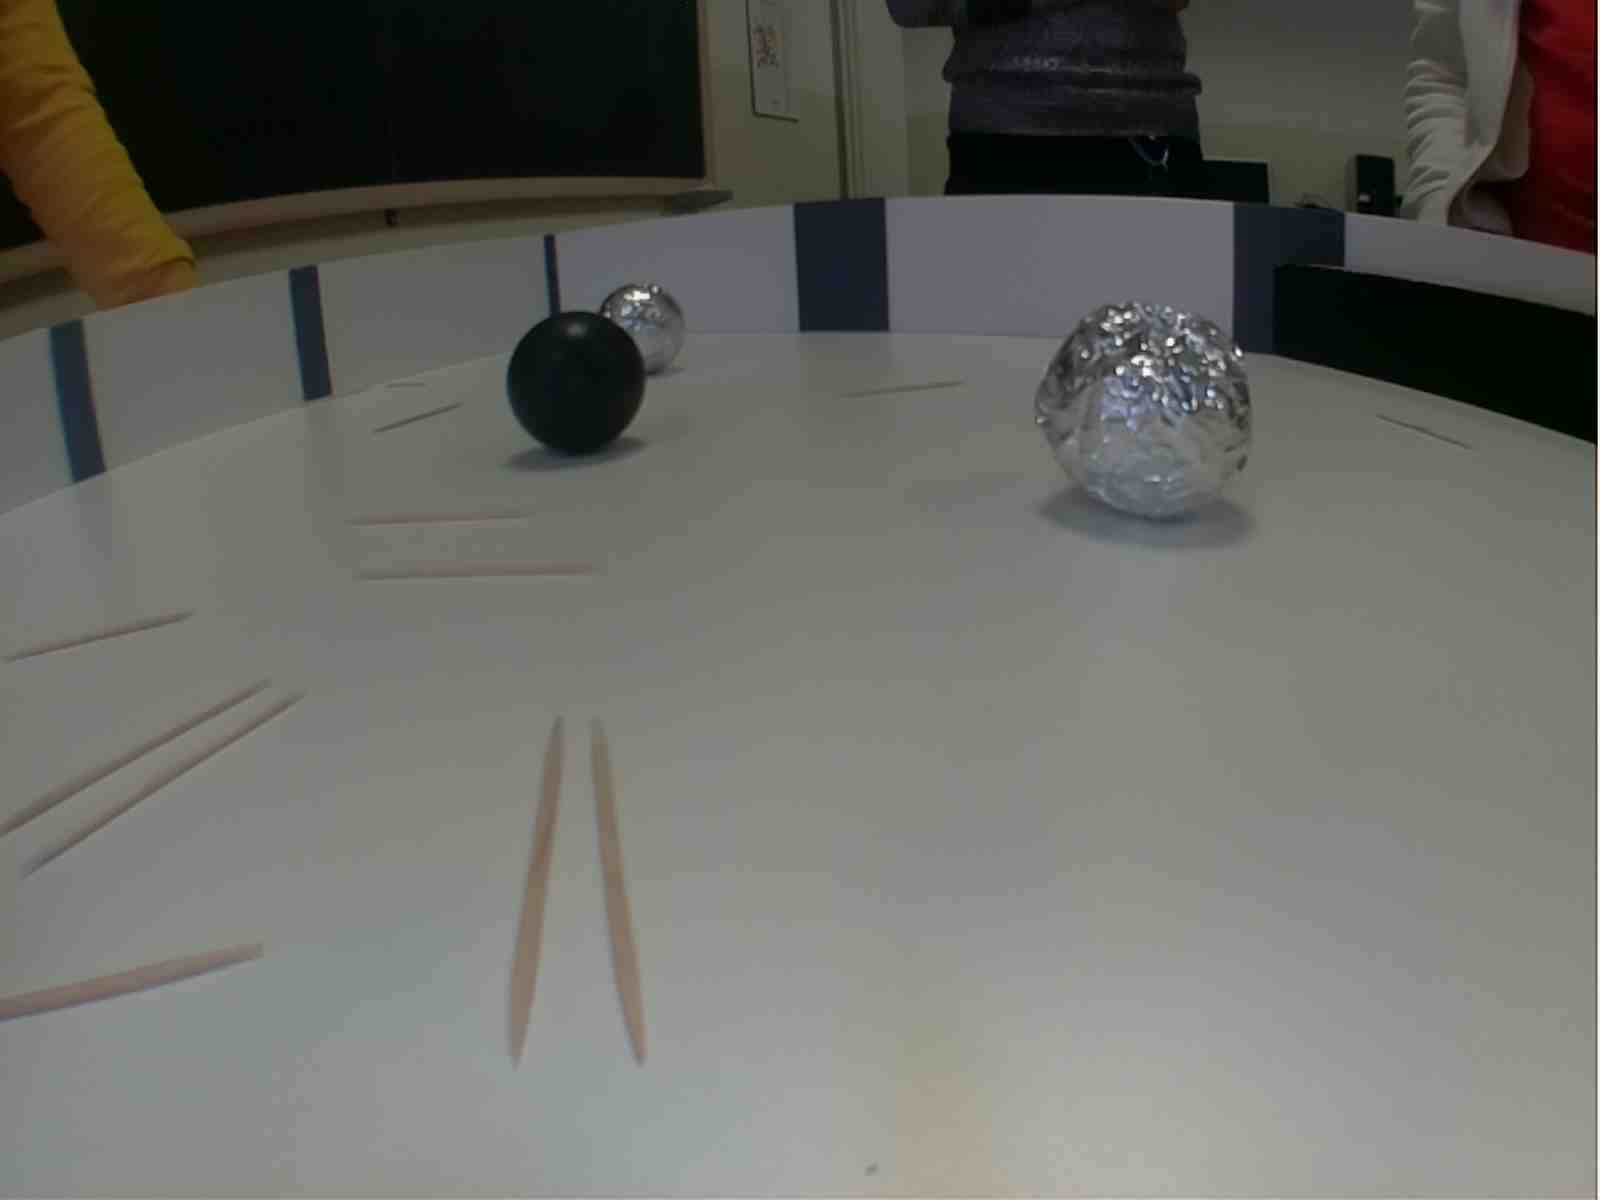bianca: (1038, 303, 1252, 529), (593, 284, 687, 381)
nera: (500, 311, 653, 459)
